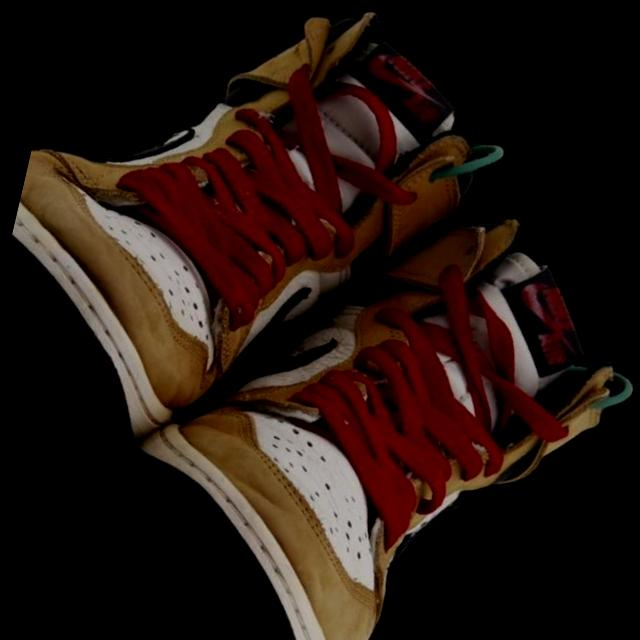nike_original_jordan: (0, 0, 558, 544), (73, 109, 640, 640)
